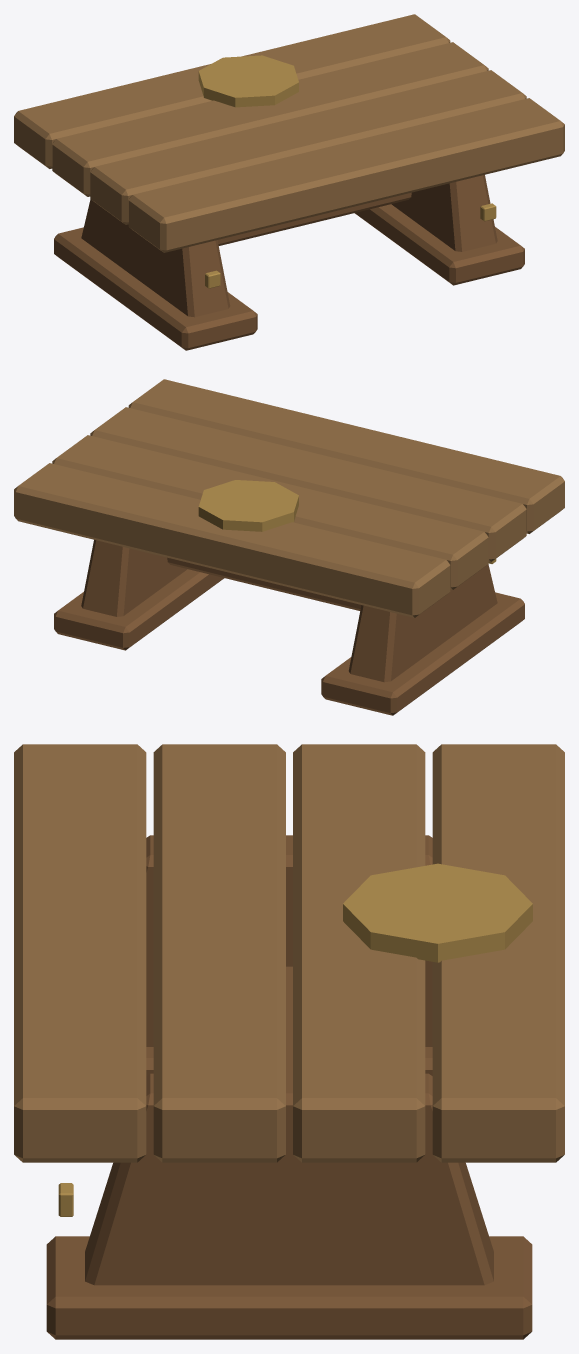
Rendered from interior-dormitory.glb.
The picture shows the model from 3 angles, top to bottom: view 1: azimuth 30°, elevation 25°; view 2: azimuth 150°, elevation 25°; view 3: azimuth 270°, elevation 25°; orthographic projection. The views are drawn at different scales.
Visible parts, largest first — view 1: interior-dormitory-visual; view 2: interior-dormitory-visual; view 3: interior-dormitory-visual.
Part boxes in pixels (x1,y1,x2,y2): interior-dormitory-visual: (14, 14, 564, 350); interior-dormitory-visual: (14, 379, 564, 715); interior-dormitory-visual: (14, 744, 564, 1339).
Bounding box in the file's own units: 1.44 × 0.5325 × 0.928.
